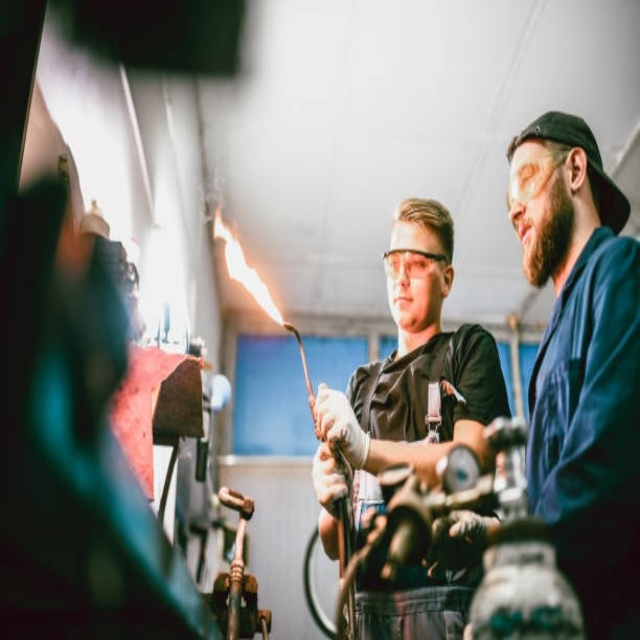Gafas: (504, 152, 570, 216), (381, 252, 446, 282)
Guantes: (427, 509, 494, 578), (312, 439, 352, 516), (313, 382, 350, 445)
Sin_mascara: (513, 220, 545, 260), (390, 287, 419, 322)
